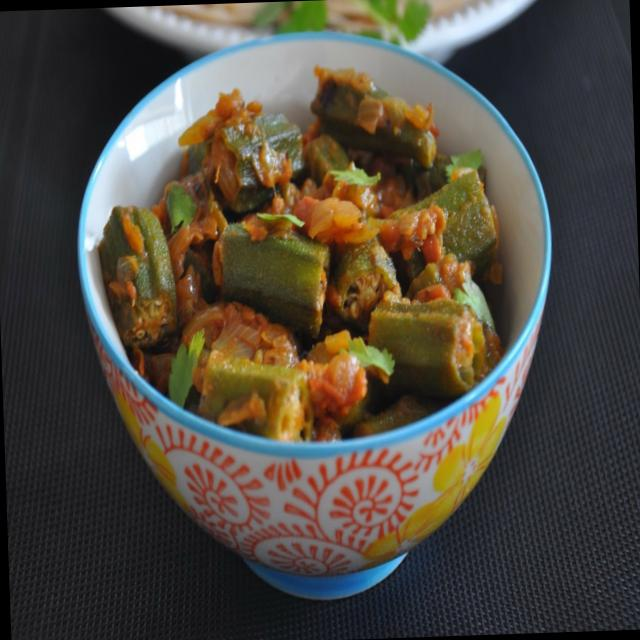BhindiMasala: (92, 59, 507, 448)
